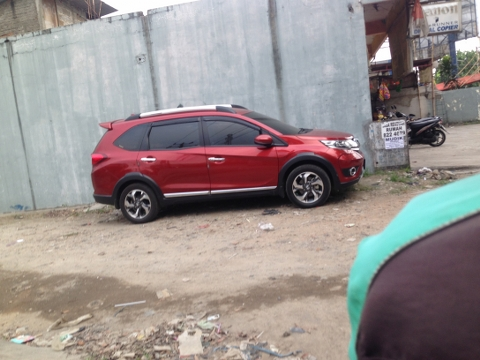mobil: (91, 104, 365, 225)
